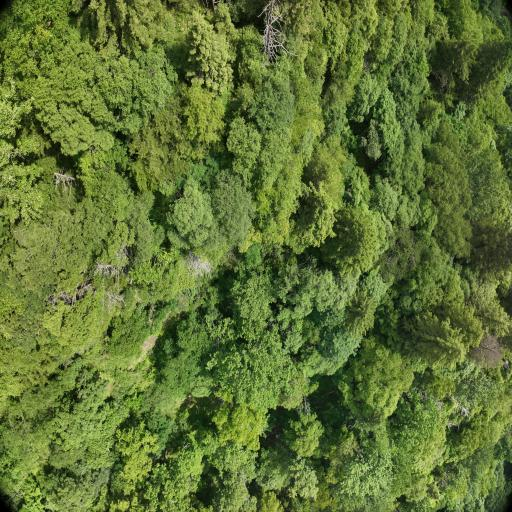dead-tree: (257, 0, 293, 76), (92, 252, 132, 312), (434, 392, 472, 430), (181, 248, 214, 280), (49, 167, 76, 196)
sick-tree: (468, 335, 504, 369)
